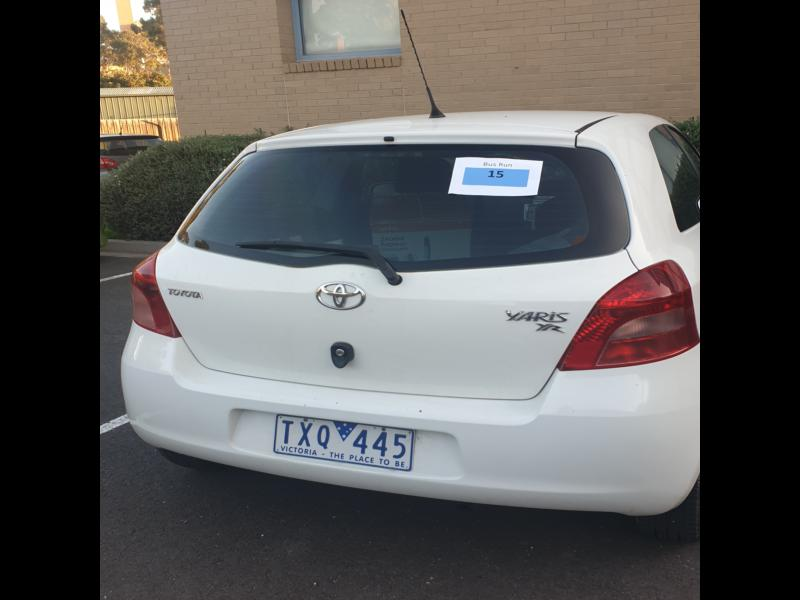BusRun: (505, 152, 589, 179)
PlateNo: (278, 381, 449, 449)
